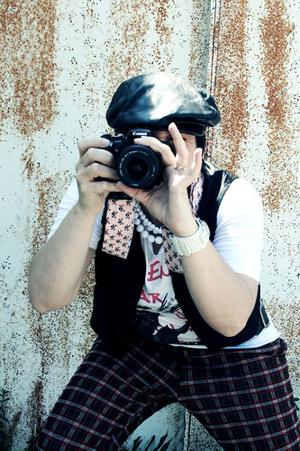person: (28, 68, 300, 451)
